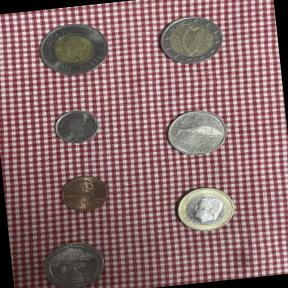coin: (31, 16, 120, 85), (156, 101, 238, 168), (166, 177, 246, 242), (151, 8, 232, 72), (32, 235, 112, 288), (55, 171, 116, 220), (48, 104, 106, 150)
